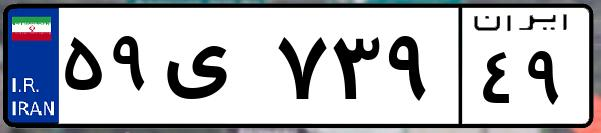3: (330, 28, 385, 110)
4: (475, 38, 525, 113)
5: (57, 26, 110, 100)
7: (270, 28, 330, 110)
9: (385, 28, 445, 110), (525, 38, 570, 115), (110, 28, 158, 98)
ی: (158, 20, 270, 120)
